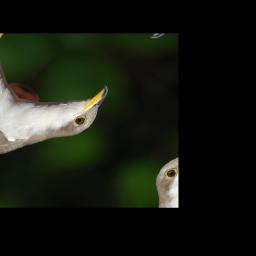Cuckoo: (0, 58, 120, 187)
